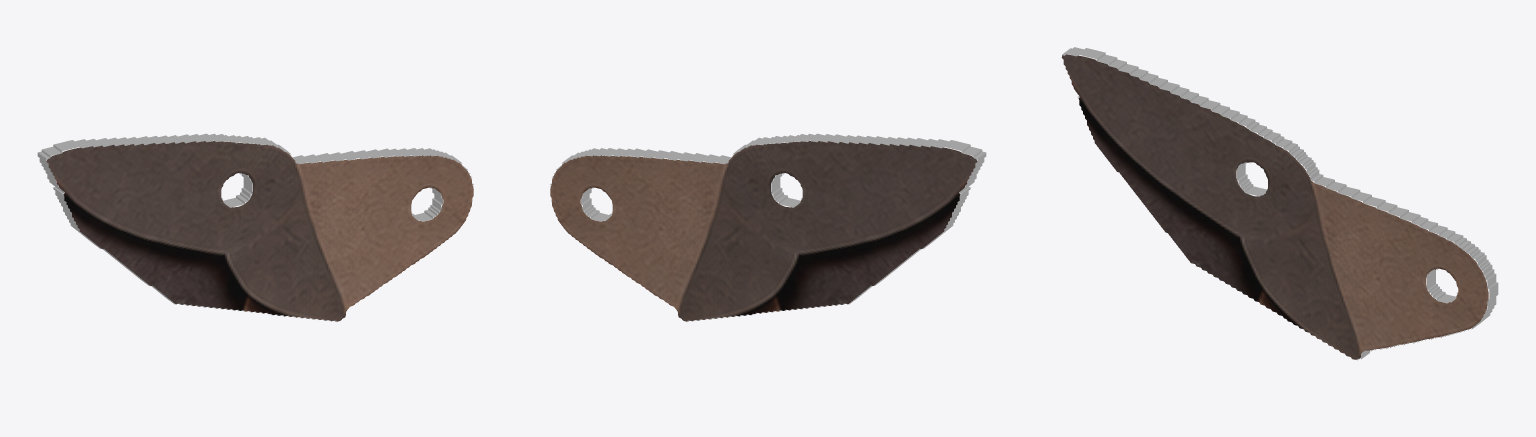
Rendered from RootLeft.glb.
3 views of the same model, side by side, from view 1: azimuth 30°, elevation 25°; view 2: azimuth 150°, elevation 25°; view 3: azimuth 330°, elevation 25° (orthographic).
Parts seen in each view (by area): view 1: PaperVolume; view 2: PaperVolume; view 3: PaperVolume.
Boxes of the visible parts, x1,y1,x2,y2 form: PaperVolume: [37, 133, 473, 321]; PaperVolume: [550, 133, 986, 321]; PaperVolume: [1061, 47, 1498, 360].
Size of the model in its own units: 2.44 by 1.41 by 0.08.
3 materials, 2 textured.
